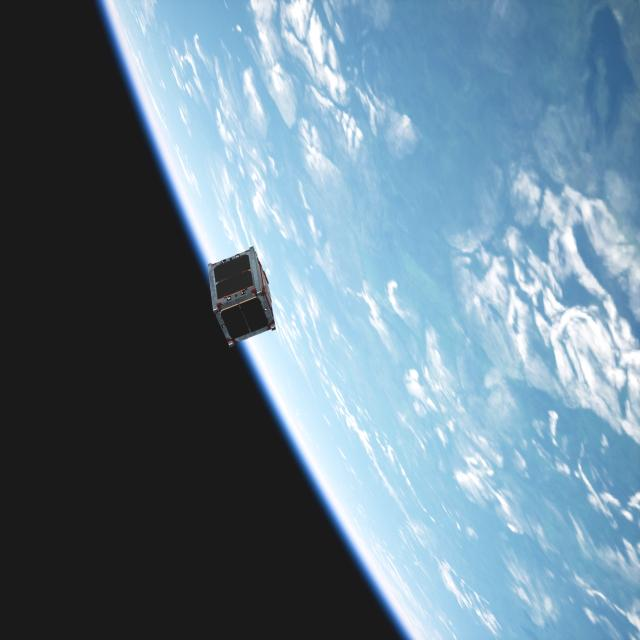medium_debris: (204, 244, 276, 350)
